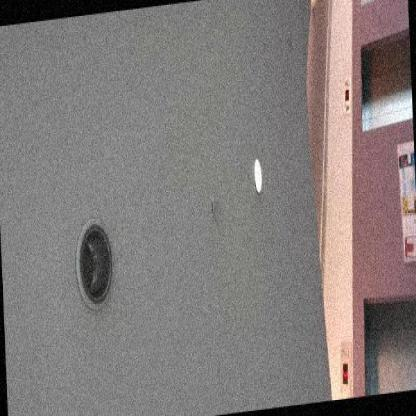light_off: (57, 187, 128, 333)
